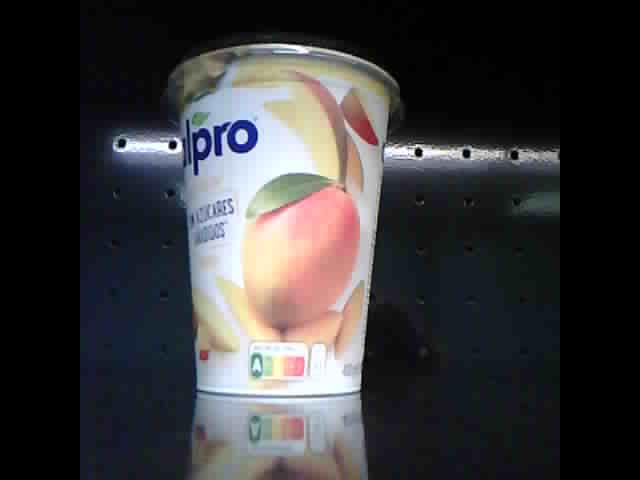alpro: (157, 37, 404, 401)
